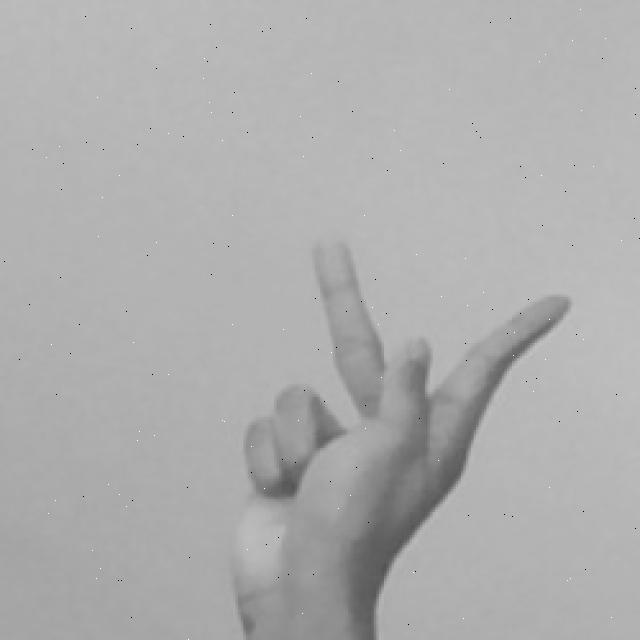K: (228, 230, 573, 640)
